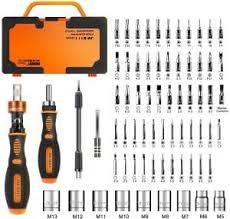screwdriver: (3, 81, 30, 213), (37, 83, 60, 183)
